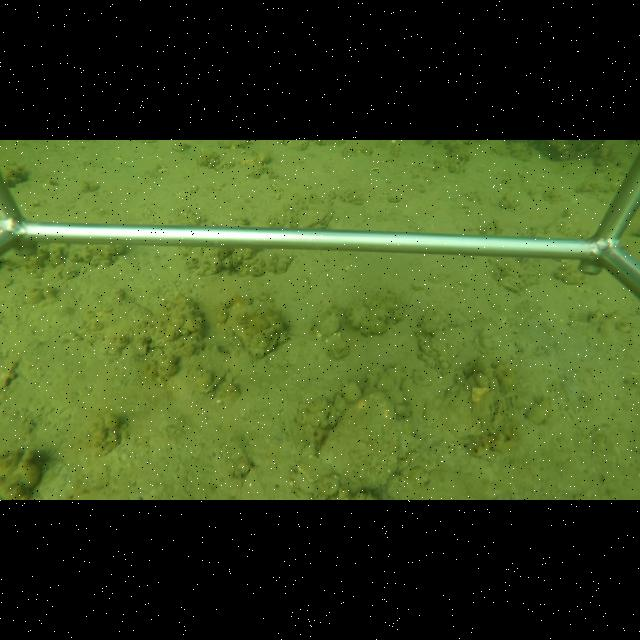Oyster-Closed: (316, 388, 409, 488), (222, 299, 284, 361), (295, 197, 333, 227)
